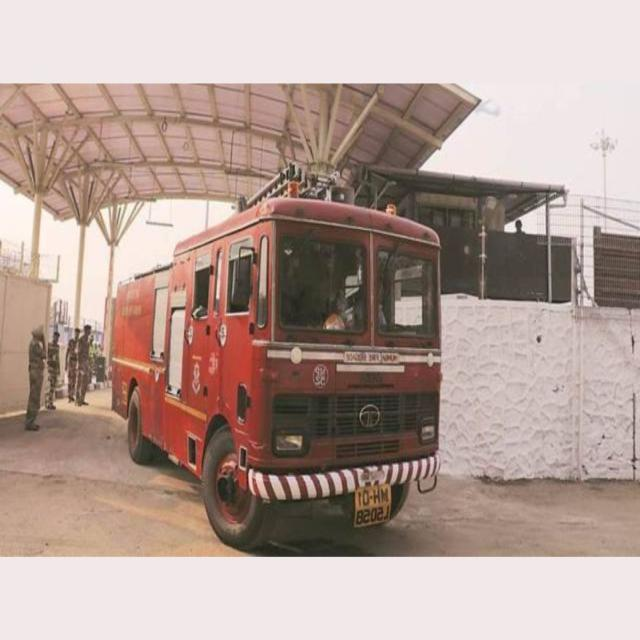emergency: (112, 165, 441, 548)
